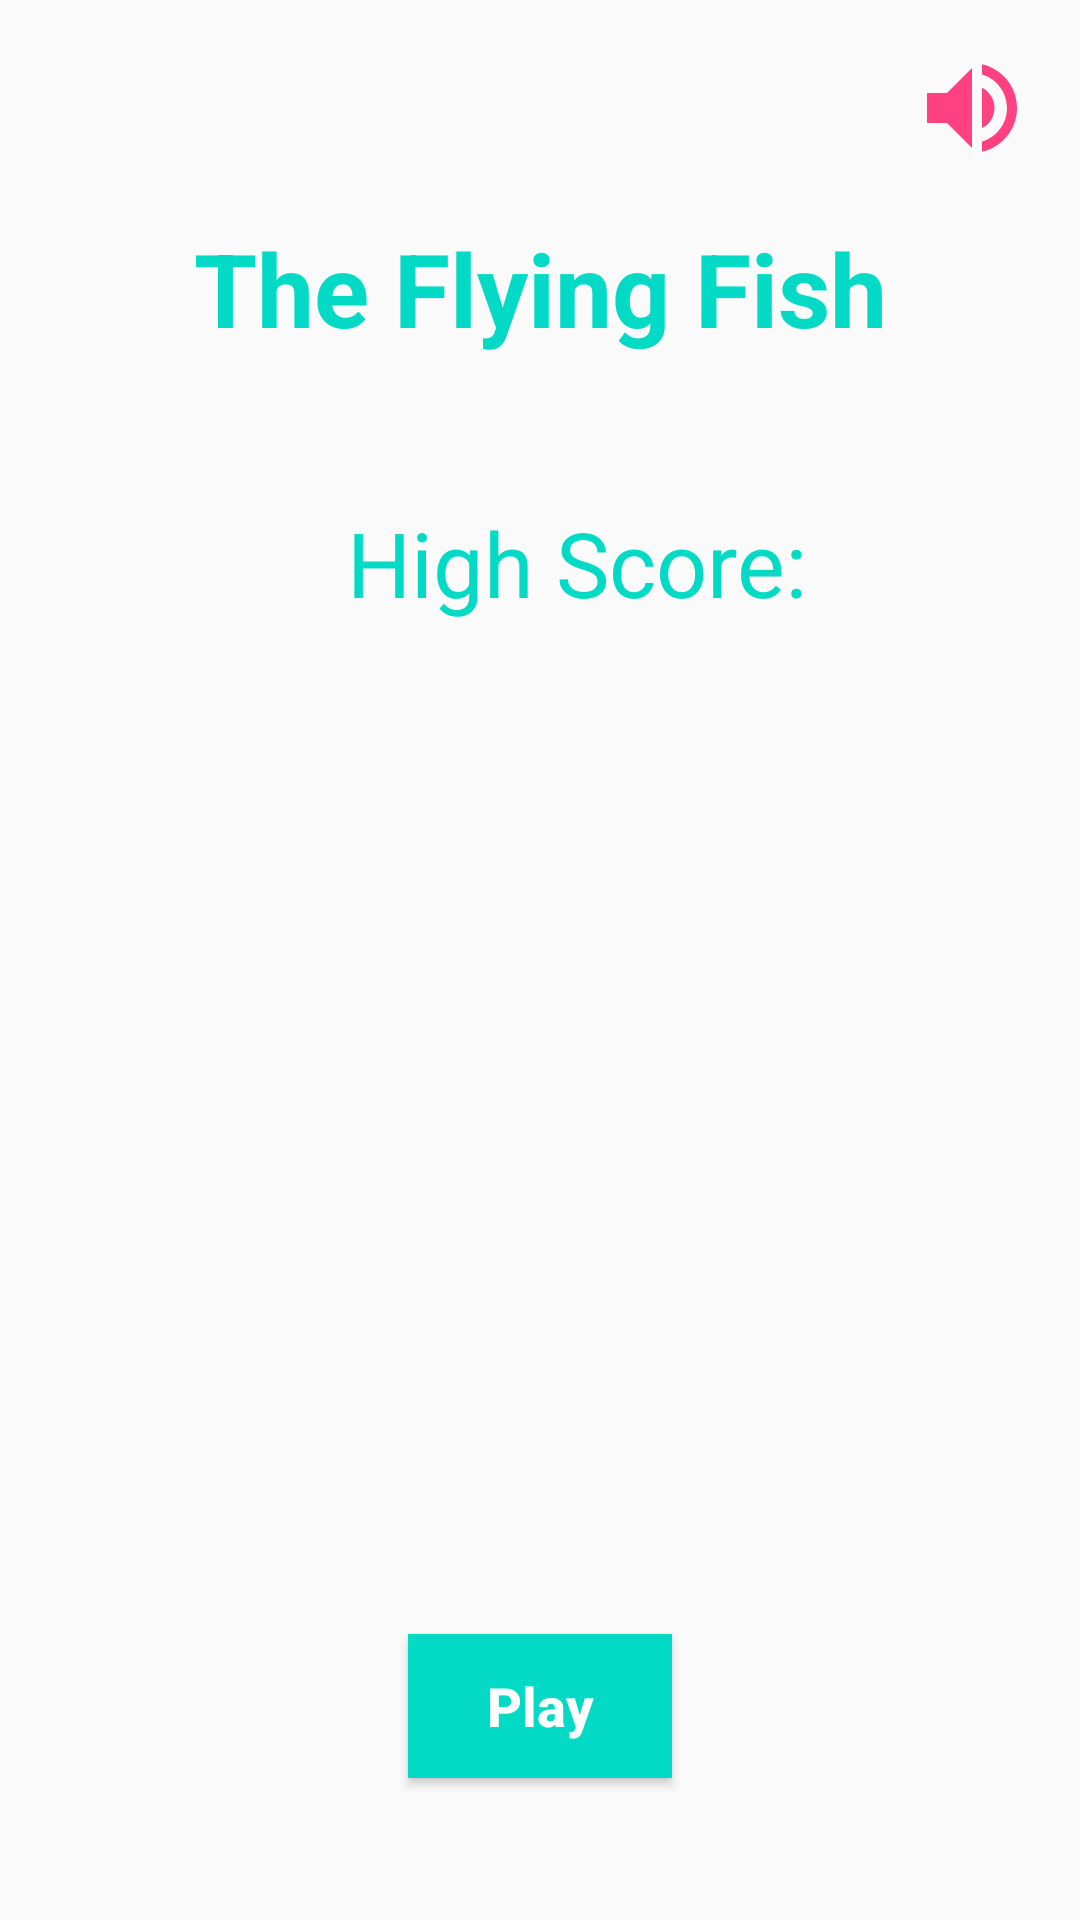

Icon click points for this 1080px x 1920px phone screenshot, format point (x, y):
sound on: point (972, 108)
